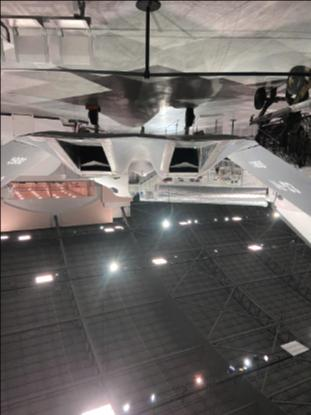US2: (1, 105, 310, 218)
